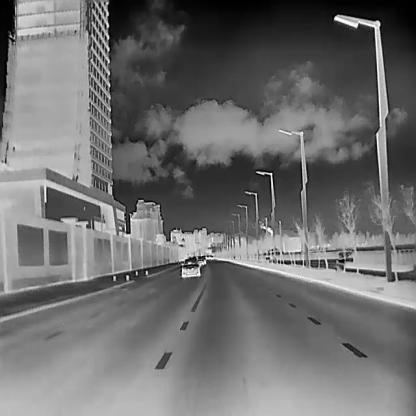car: (180, 257, 200, 277), (198, 256, 204, 265), (201, 255, 206, 264), (205, 255, 209, 260), (209, 255, 213, 260)
